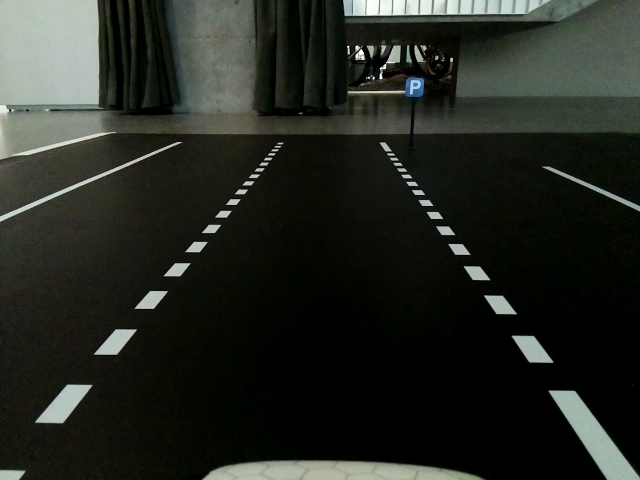park: (405, 77, 423, 96)
